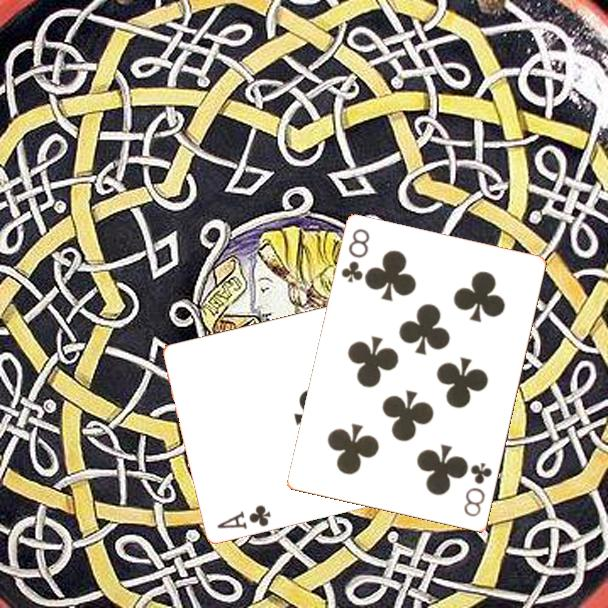c01: (214, 501, 274, 532)
c08: (338, 225, 373, 286), (460, 460, 495, 520)
